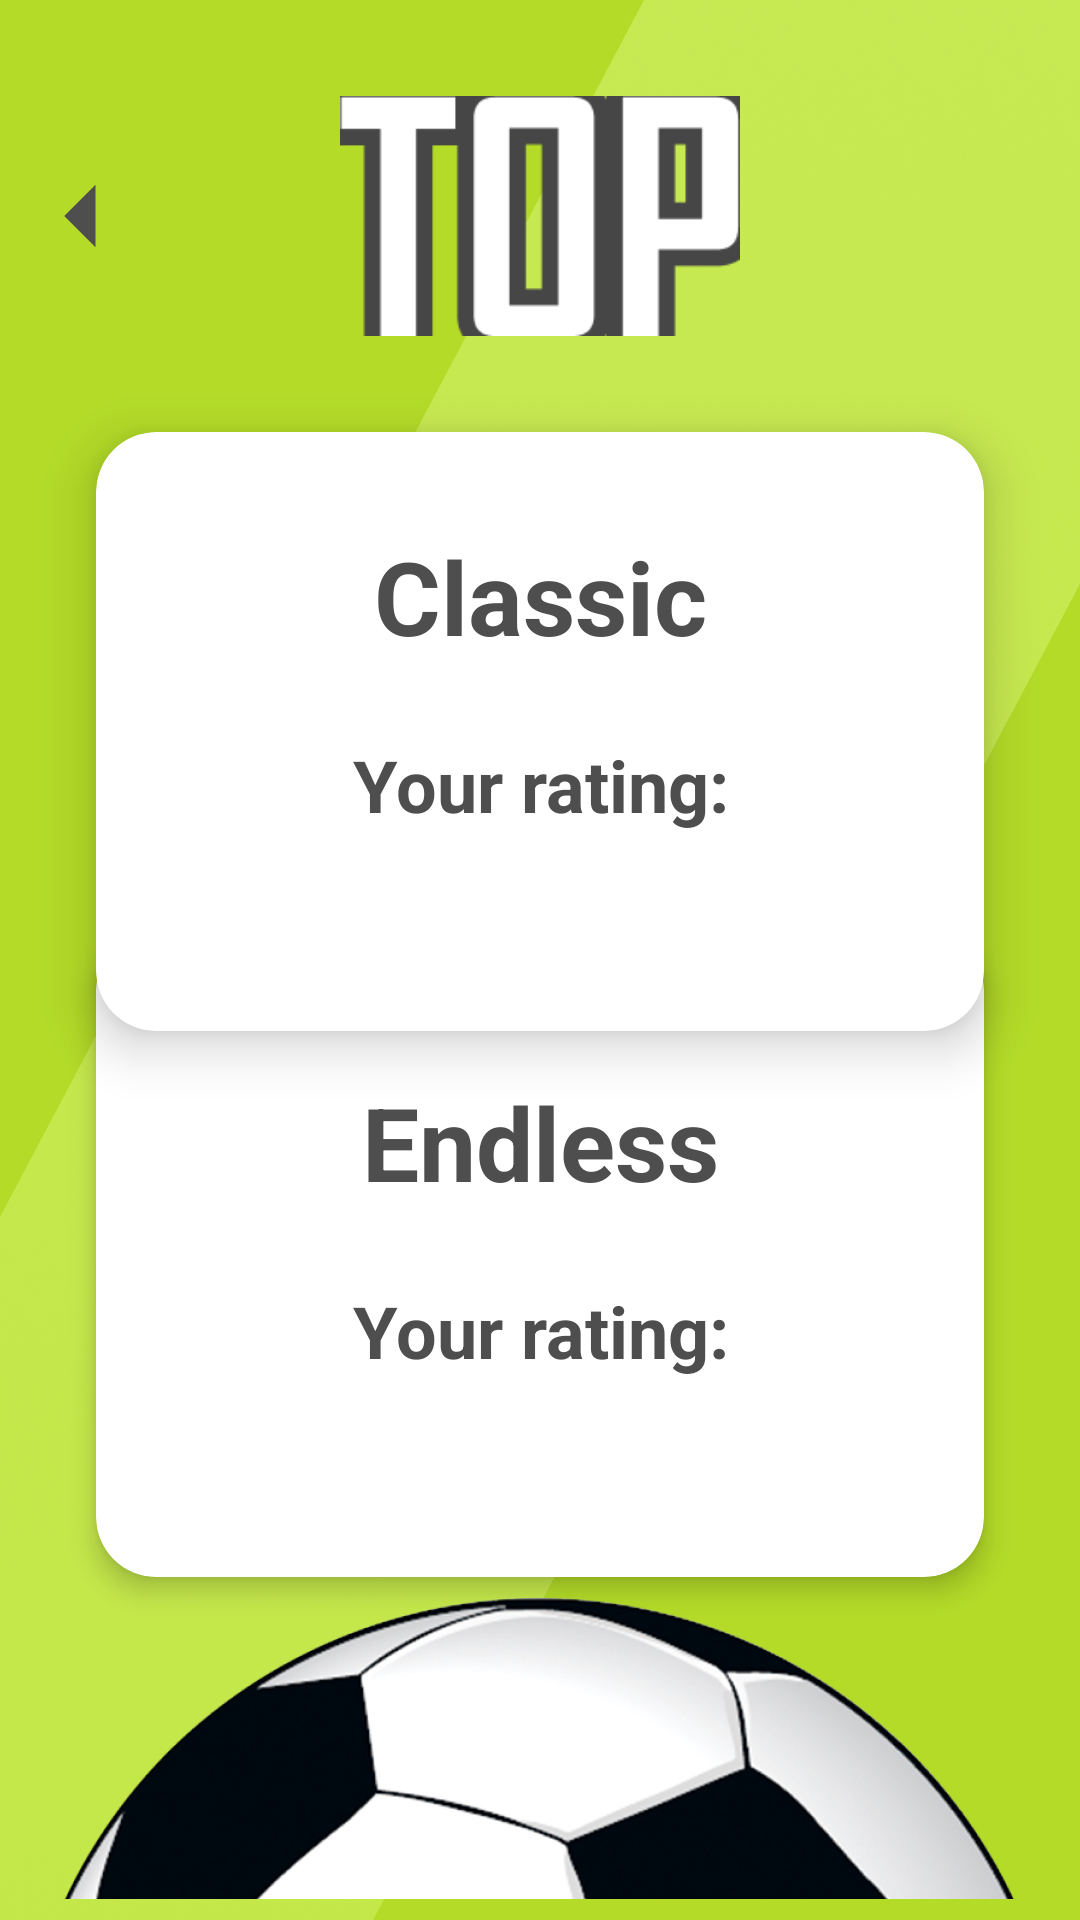

Named icons in this screenshot (1080px×1920px) and their centers, point (x, y):
arrow left: point (80, 216)
